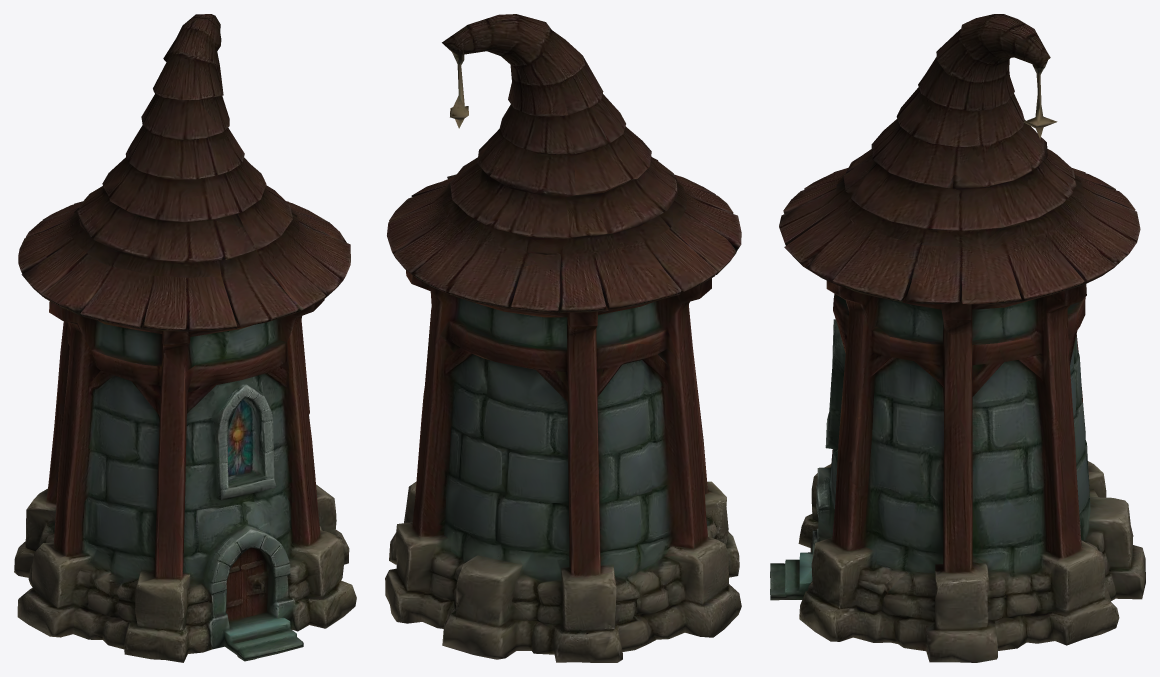
File: research-center.glb
3 renders of one model, left to right at view 1: azimuth 30°, elevation 25°; view 2: azimuth 150°, elevation 25°; view 3: azimuth 270°, elevation 25°, orthographic. The views are drawn at different scales.
Visible parts, largest first — view 1: tripo_node_502ceb7f-c9cd-4eca-9b3e-506ed705f19e; view 2: tripo_node_502ceb7f-c9cd-4eca-9b3e-506ed705f19e; view 3: tripo_node_502ceb7f-c9cd-4eca-9b3e-506ed705f19e.
Part boxes in pixels (left/top/right/bottom): tripo_node_502ceb7f-c9cd-4eca-9b3e-506ed705f19e: left=14, top=14, right=356, bottom=662; tripo_node_502ceb7f-c9cd-4eca-9b3e-506ed705f19e: left=385, top=14, right=741, bottom=662; tripo_node_502ceb7f-c9cd-4eca-9b3e-506ed705f19e: left=770, top=14, right=1145, bottom=662.
Bounding box in the file's own units: 0.5866 × 1 × 0.5829.
1 material, 1 textured.
